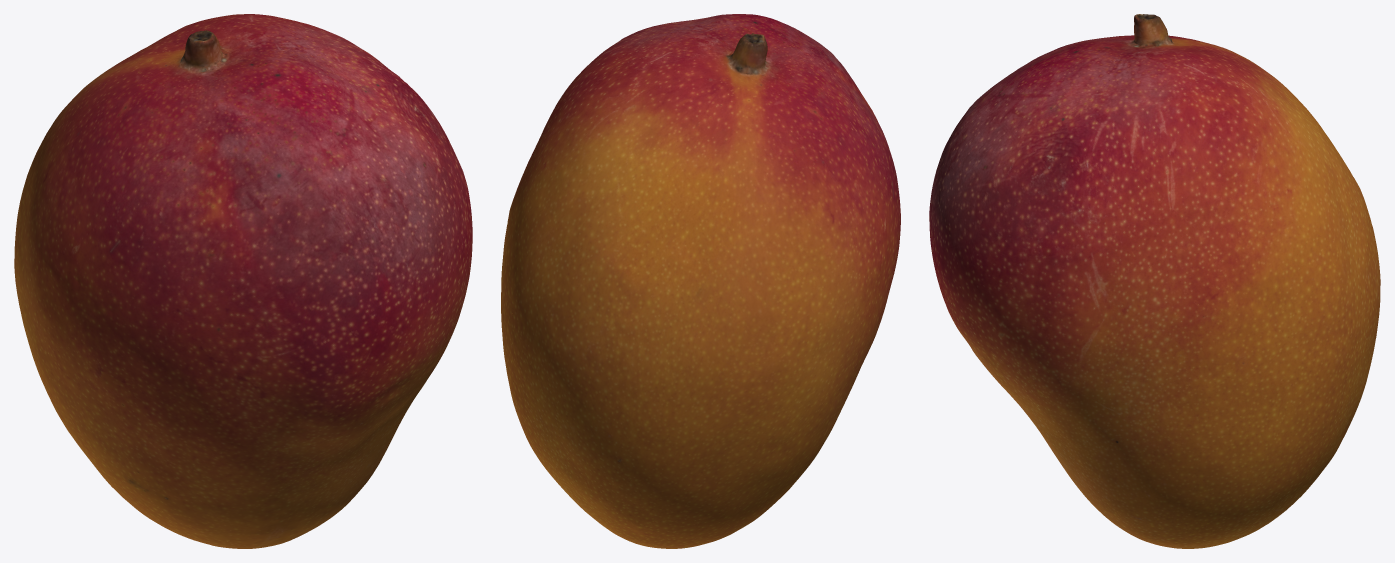
Rendered from mango.glb.
3 views of the same model, side by side, from view 1: azimuth 30°, elevation 25°; view 2: azimuth 150°, elevation 25°; view 3: azimuth 270°, elevation 25° (orthographic). The views are drawn at different scales.
Visible parts, largest first — view 1: Object_2; view 2: Object_2; view 3: Object_2.
Part boxes in pixels (x1,y1,x2,y2): Object_2: (14, 14, 472, 548); Object_2: (501, 14, 900, 548); Object_2: (929, 14, 1380, 548).
Bounding box in the file's own units: 0.063 × 0.0875 × 0.0724.
1 material, 1 textured.
